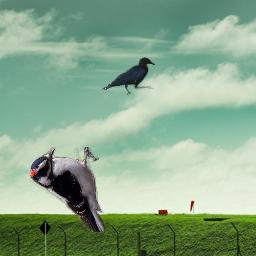Crow: (101, 57, 155, 95)
Woodpecker: (28, 147, 106, 232)
